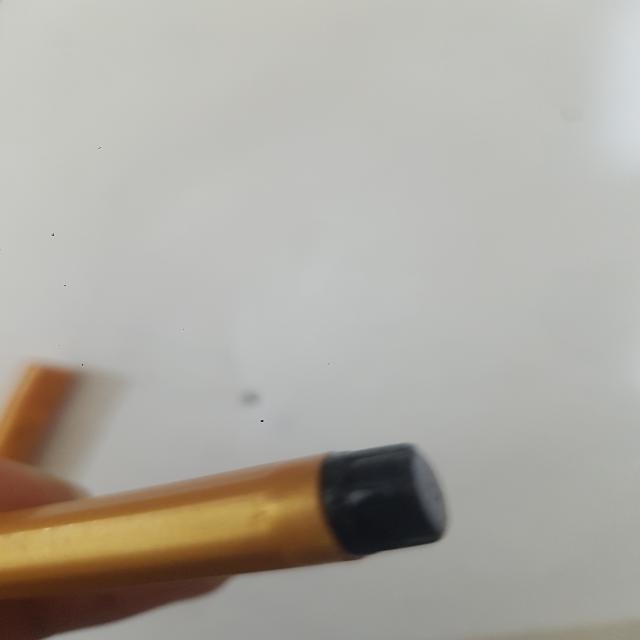general: (0, 407, 485, 606)
